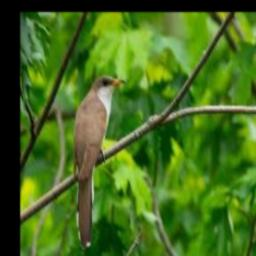Cuckoo: (73, 76, 126, 248)
